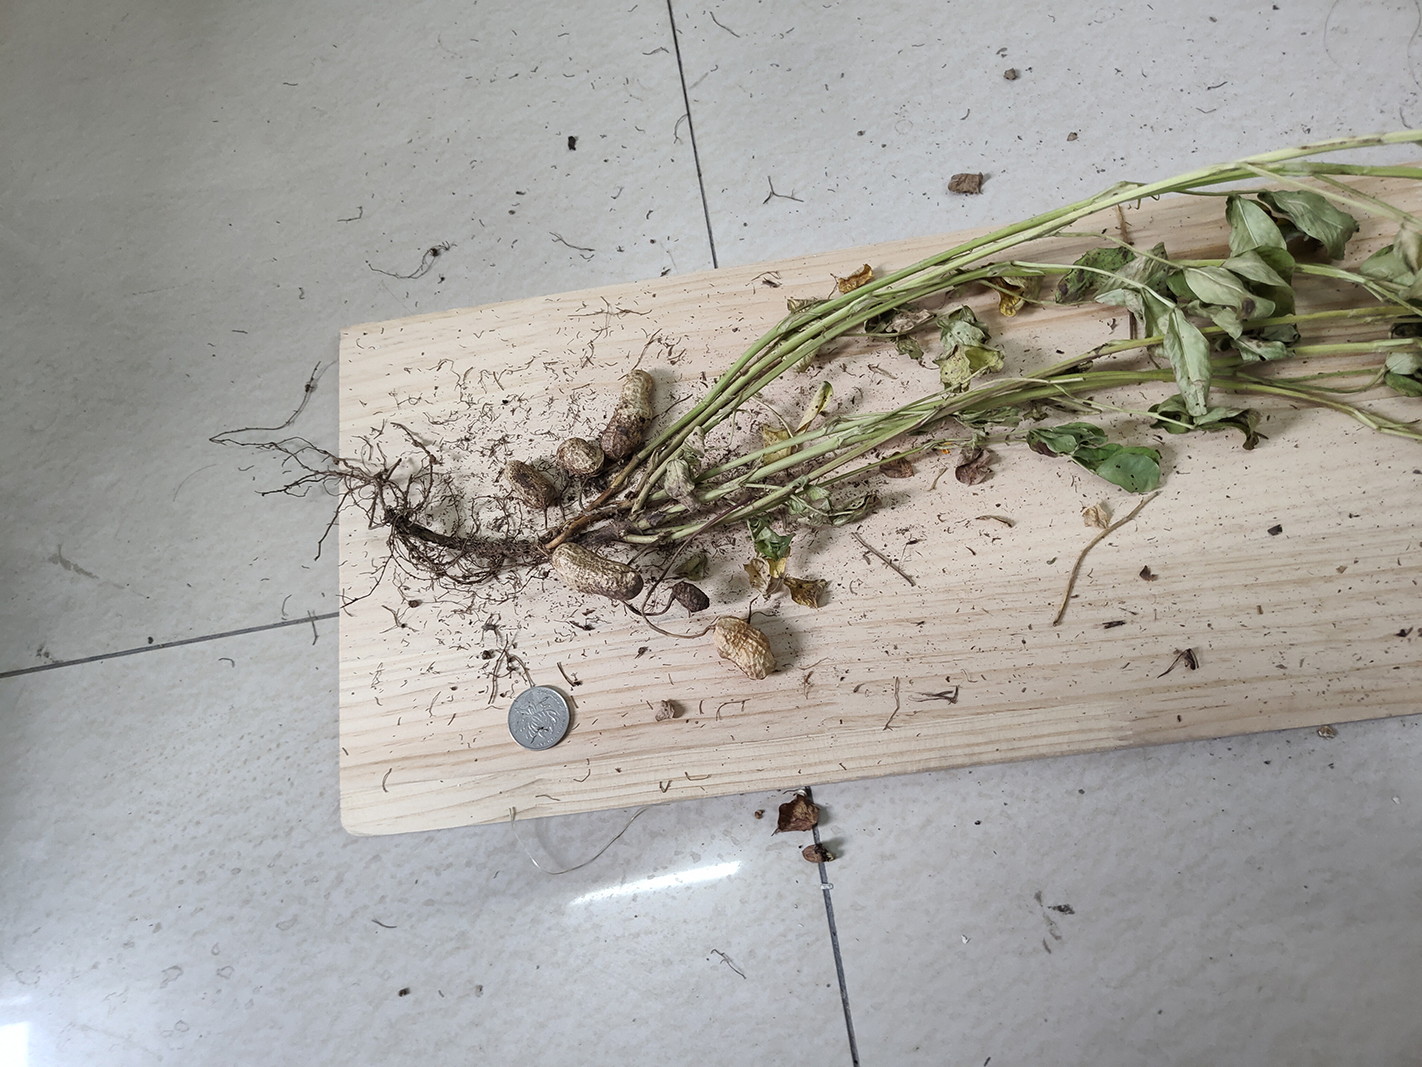h: (551, 542, 642, 601), (601, 371, 656, 463), (713, 616, 775, 681), (556, 437, 603, 480)
l: (503, 460, 557, 509), (672, 579, 710, 613)
